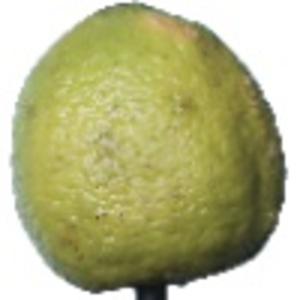limão: (11, 1, 287, 300)
